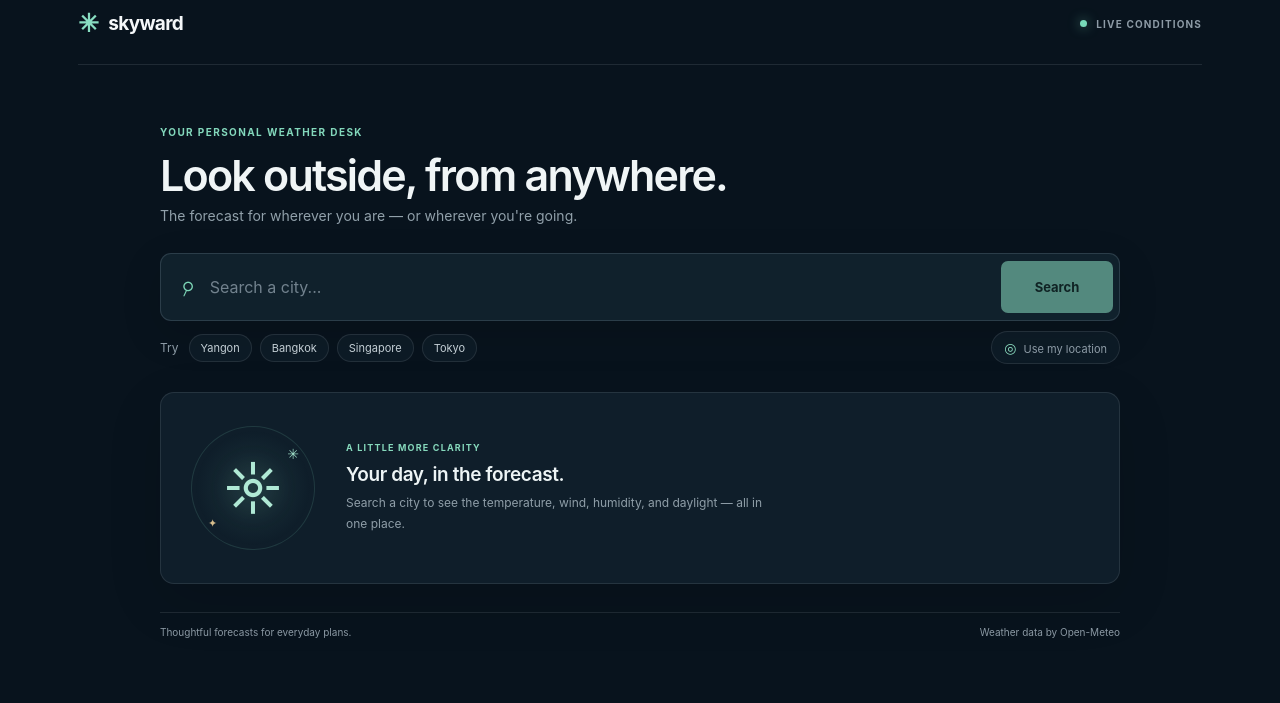
Test: looks up a city and renders its current conditions
The width and height of the screenshot is (1280, 703).
In the field named "Search for a city": (598, 287) [208, 276, 989, 298], type "Yangon"
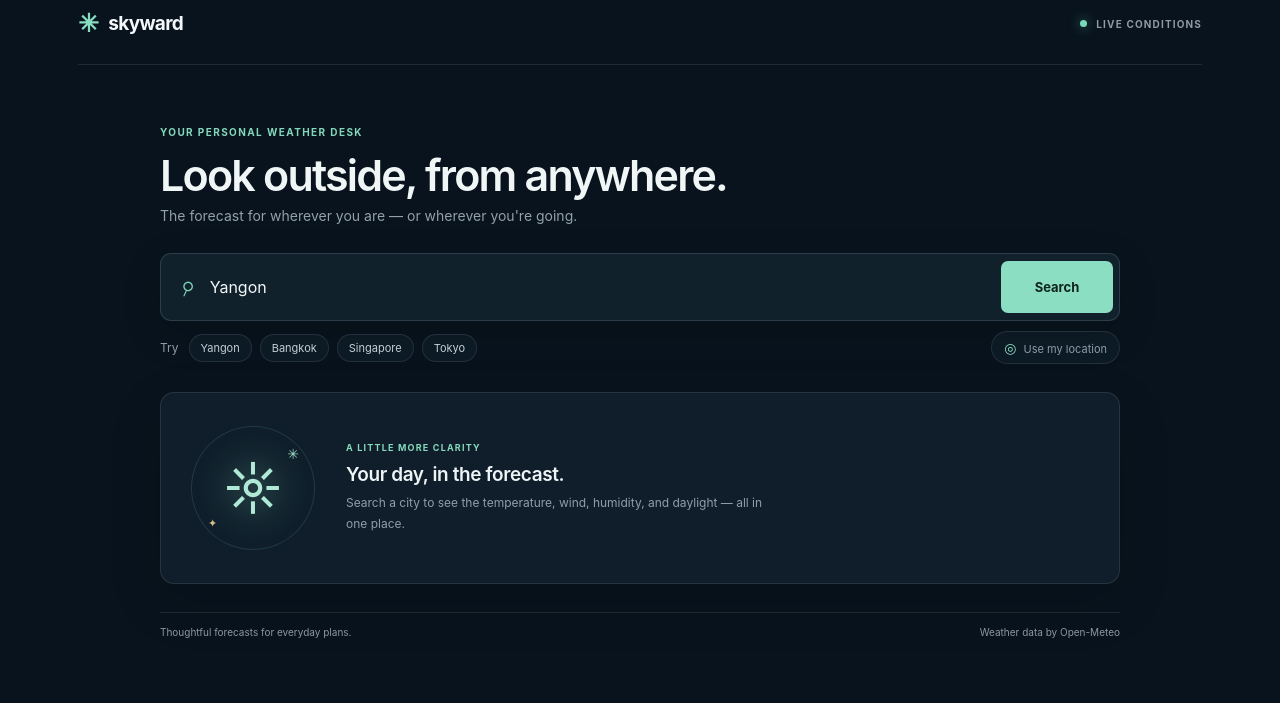
Click the button "Search": (1057, 287) [1001, 261, 1113, 313]
(page scrolled)
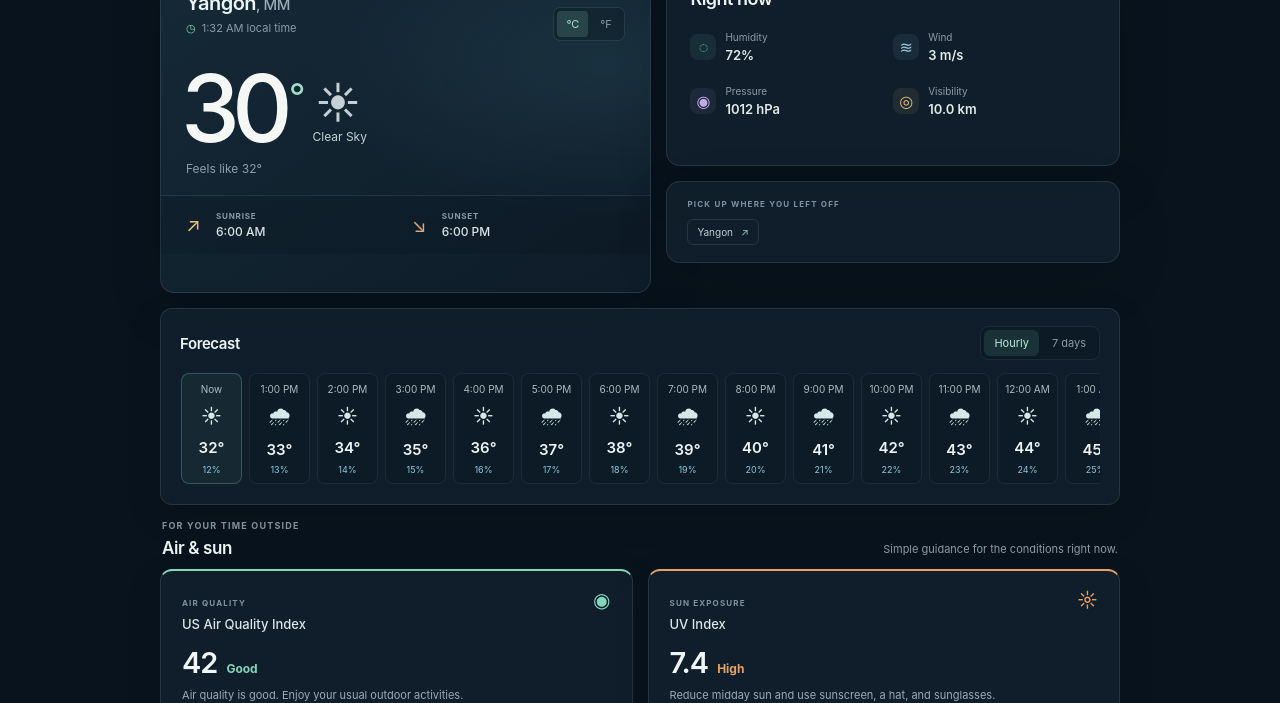
Now the element named "Weather in Yangon" shows "Clear sky", box [312, 129, 367, 144]
Now the text "72%" is shown, box [725, 47, 754, 63]
Now the element "AIR QUALITY" shows "42", box [182, 645, 217, 680]
Click the tab "7 days": (1069, 343) [1042, 330, 1096, 356]
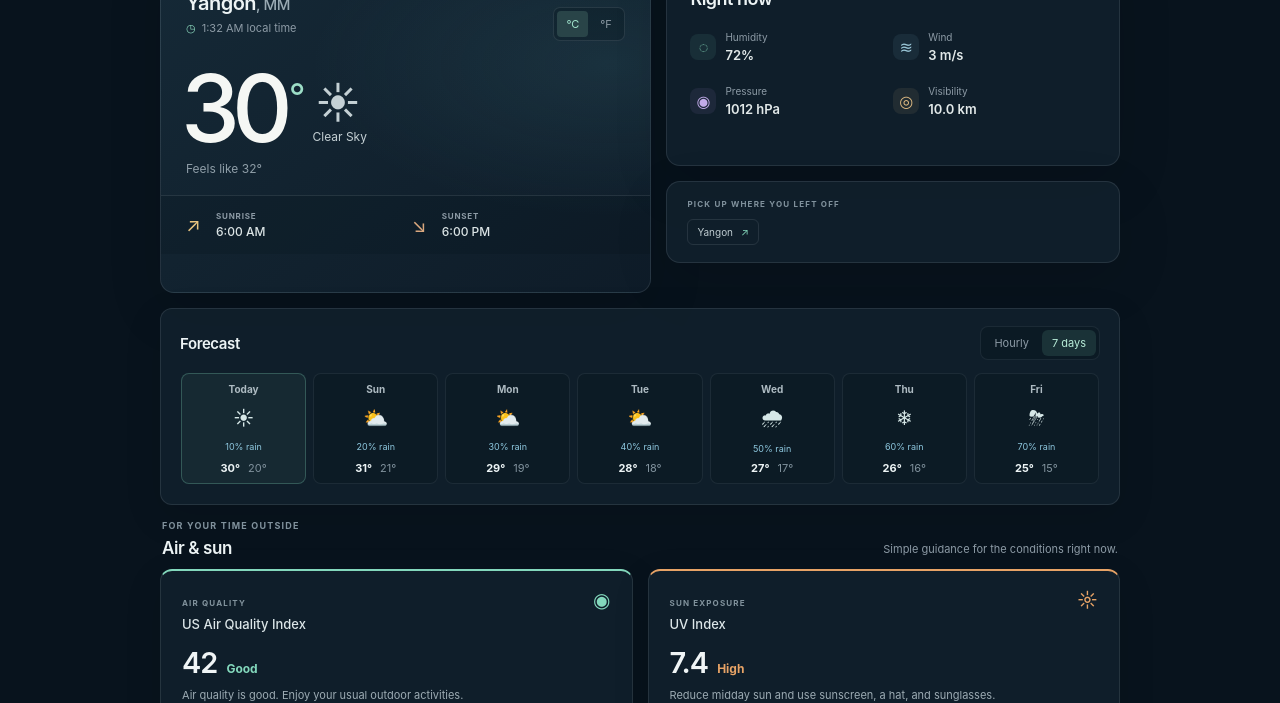
Now the number of elements with class "daily-item" is 7
Now the element with class "daily-item" shows "Today", box [229, 383, 259, 395]
Now the element with class "daily-item" shows "30°", box [181, 373, 306, 484]
Click the button "°F": (606, 24) [590, 11, 621, 37]
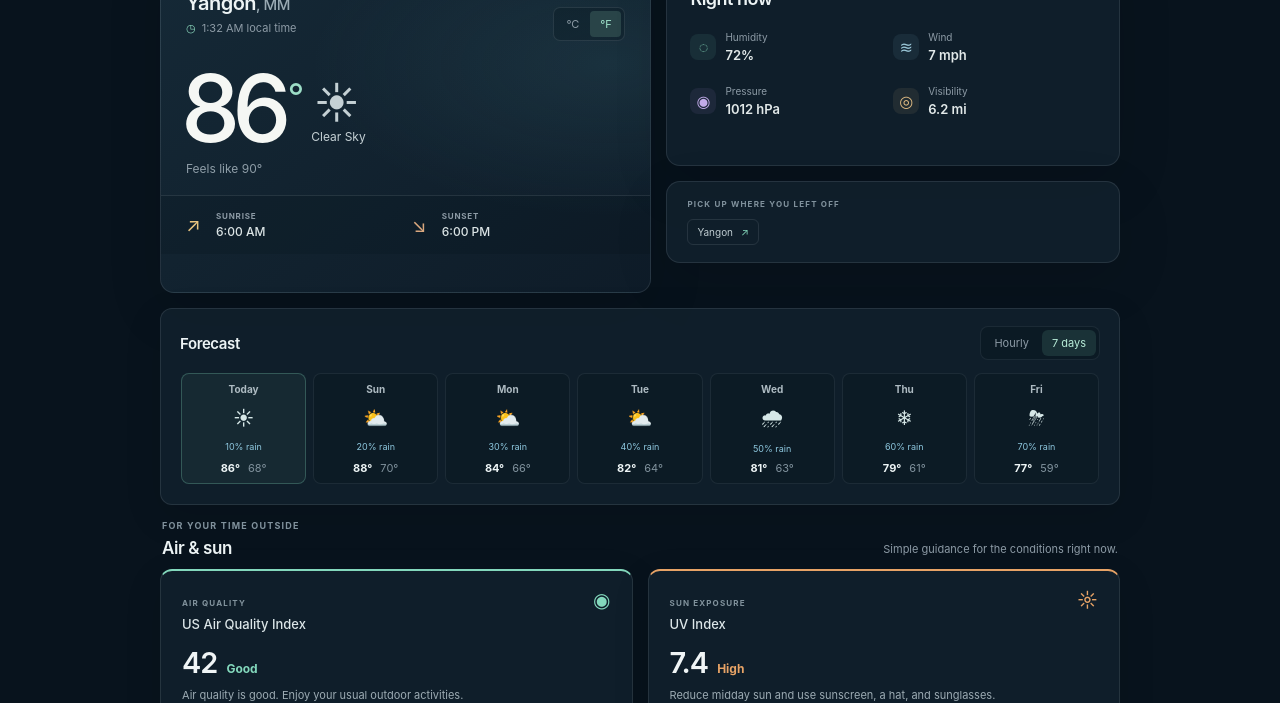
Now the element with class "temperature" reads "86°", box [181, 62, 301, 154]
Click the tab "Hourly": (1012, 343) [984, 330, 1039, 356]
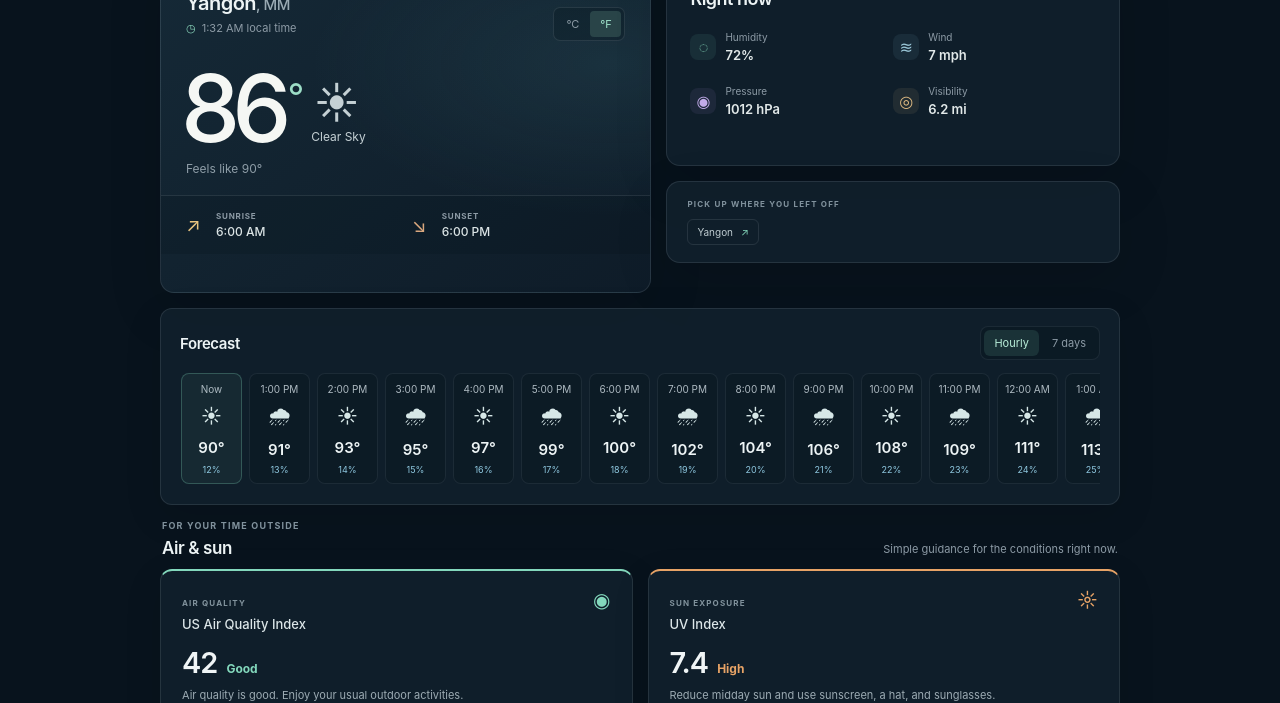
Now the panel named "Hourly" shows "90°", box [180, 372, 1100, 490]
Click the tab "7 days": (1069, 343) [1042, 330, 1096, 356]
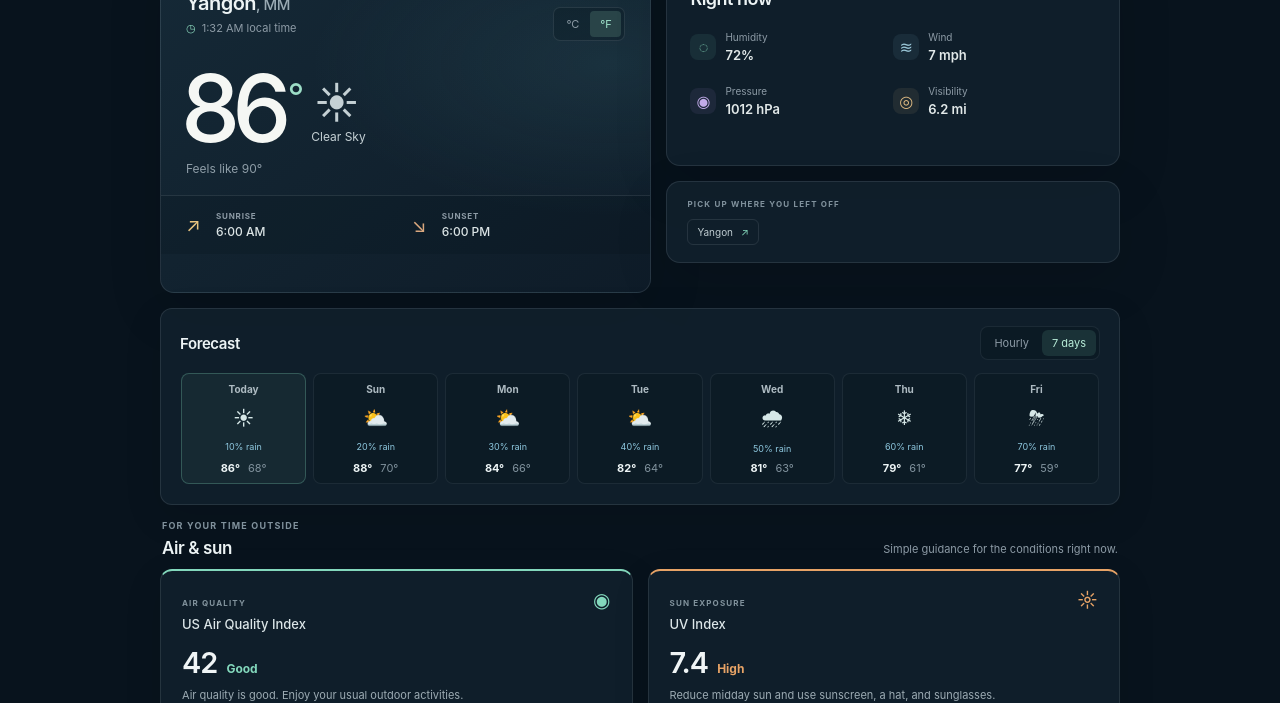
Now the element with class "daily-item" shows "86°", box [181, 373, 306, 484]
Now the element with class "daily-item" shows "68°", box [181, 373, 306, 484]
